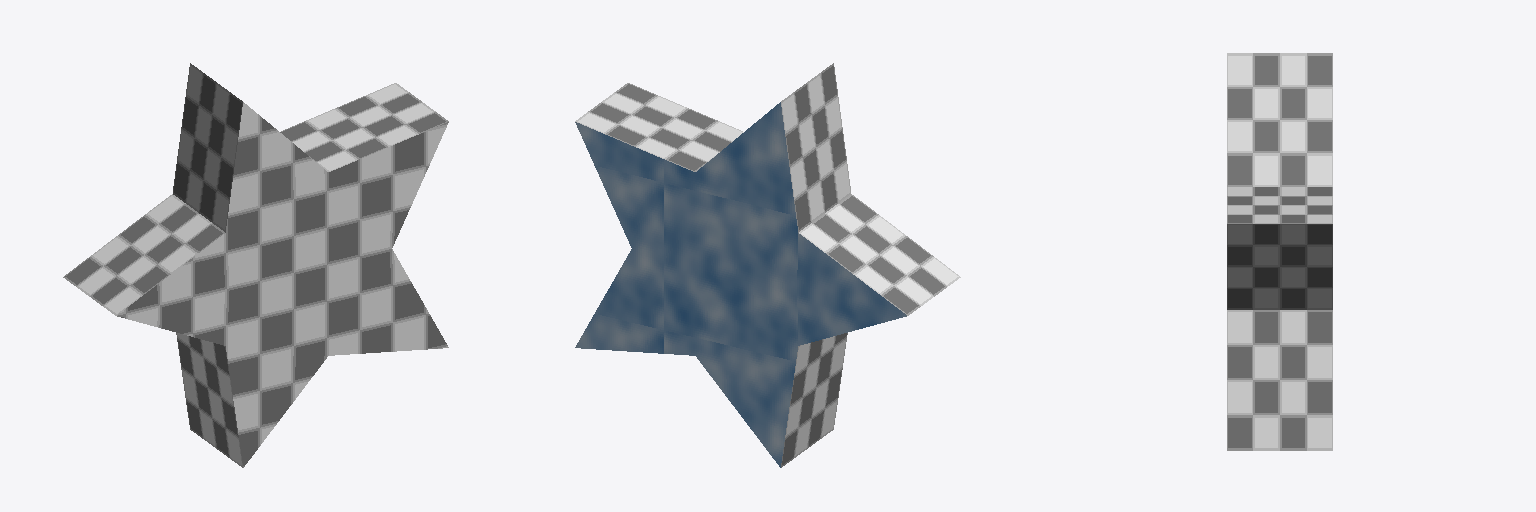
The picture shows the model from 3 angles: view 1: azimuth 30°, elevation 25°; view 2: azimuth 150°, elevation 25°; view 3: azimuth 270°, elevation 25°; orthographic projection.
Parts seen in each view (by area): view 1: Star.001; view 2: Star.001; view 3: Star.001.
Part boxes in pixels (x1,y1,x2,y2): Star.001: (63,63,448,467); Star.001: (575,63,960,467); Star.001: (1227,53,1332,450).
Size of the model in its own units: 1.81 by 1.9 by 0.5.
Materials: 3 (2 with a texture image).